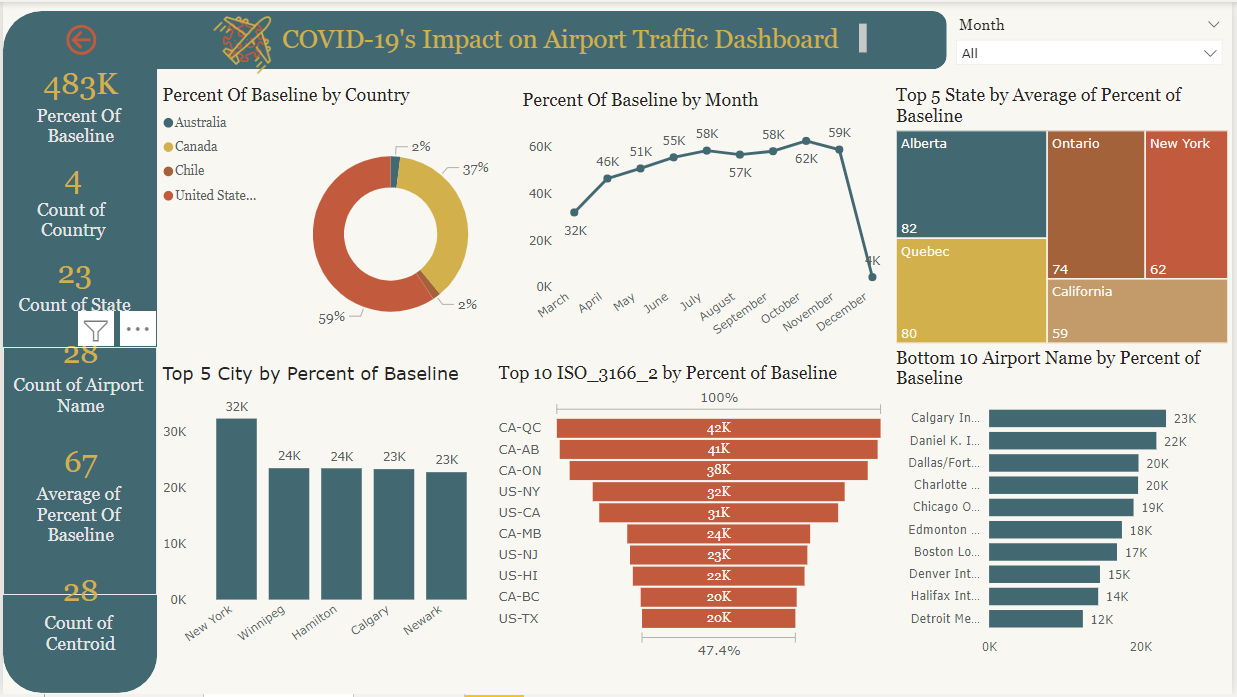

The page's visual inventory and layout, read from the dashboard file:
{"tool":"powerbi","page":{"name":"Dashboard","canvas":[1280,720],"ordinal":1},"visuals":[{"type":"donutChart","fields":{"Y":["covid_impact_on_airport_traffic.PercentOfBaseline"],"Series":["covid_impact_on_airport_traffic.Country"]},"box":[160.9,85.2,374.9,289.7],"z":0},{"type":"clusteredColumnChart","title":"Top 5 City by Percent of Baseline","fields":{"Y":["covid_impact_on_airport_traffic.PercentOfBaseline"],"Category":["covid_impact_on_airport_traffic.City"]},"box":[160.9,374.9,350.3,316.2],"z":1000},{"type":"lineChart","fields":{"Category":["covid_impact_on_airport_traffic.Date.Variation.Date Hierarchy.Month"],"Y":["covid_impact_on_airport_traffic.PercentOfBaseline"]},"box":[535.9,90.9,388.2,280.2],"z":2000},{"type":"funnel","title":"Top 10  ISO_3166_2 by Percent of Baseline","fields":{"Y":["covid_impact_on_airport_traffic.PercentOfBaseline"],"Category":["covid_impact_on_airport_traffic.ISO_3166_2"]},"box":[511.2,374.9,412.8,314.3],"z":3000},{"type":"barChart","title":"Bottom 10 Airport Name by Percent of Baseline","fields":{"Category":["covid_impact_on_airport_traffic.AirportName"],"Y":["covid_impact_on_airport_traffic.PercentOfBaseline"]},"box":[924,359.8,356,329.5],"z":4000},{"type":"treemap","title":"Top 5 State by Average of Percent of Baseline","fields":{"Group":["covid_impact_on_airport_traffic.State"],"Values":["covid_impact_on_airport_traffic.PercentOfBaseline"]},"box":[924,85.2,356,274.6],"z":5000},{"type":"shape","box":[89,9.5,893.7,60.6],"z":6000},{"type":"shape","box":[0,9.5,160.9,710.1],"z":7000},{"type":"textbox","box":[263.9,17.2,660.7,62.5],"z":8000},{"type":"slicer","fields":{"Values":["covid_impact_on_airport_traffic.Date.Variation.Date Hierarchy.Month"]},"box":[982.7,9.5,297.3,60.6],"z":9000},{"type":"card","fields":{"Values":["covid_impact_on_airport_traffic.Country"]},"box":[0,94.7,145.8,193.1],"z":10000},{"type":"card","fields":{"Values":["covid_impact_on_airport_traffic.State"]},"box":[1.9,191.2,145.8,200.7],"z":11000},{"type":"card","fields":{"Values":["covid_impact_on_airport_traffic.PercentOfBaseline"]},"box":[0,0,160.9,187.5],"z":12000},{"type":"card","fields":{"Values":["covid_impact_on_airport_traffic.AirportName"]},"box":[0,270.8,160.9,208.3],"z":13000},{"type":"card","fields":{"Values":["covid_impact_on_airport_traffic.Percent Of Baseline"]},"box":[0,359.8,160.9,257.5],"z":14000},{"type":"image","box":[187.4,12.5,178,56.2],"z":15000},{"type":"image","box":[335.8,207.7,124.9,62.5],"z":16000},{"type":"card","fields":{"Values":["covid_impact_on_airport_traffic.Centroid"]},"box":[0,524.5,160.9,195],"z":17000},{"type":"actionButton","box":[60.6,18.9,100.4,41.7],"z":18000},{"type":"shape","box":[160.9,676.3,1118.3,12.5],"z":18001}]}

Visuals, with their boxes in screenshot pixels (x1, y1, x2, y2), scaled from the page's 1280x720 canvas onto the 1237x697 screenshot:
donutChart - covid_impact_on_airport_traffic.PercentOfBaseline x covid_impact_on_airport_traffic.Country: [155,82,518,363]
"Top 5 City by Percent of Baseline" clusteredColumnChart: [155,363,494,669]
lineChart - covid_impact_on_airport_traffic.Date.Variation.Date Hierarchy.Month x covid_impact_on_airport_traffic.PercentOfBaseline: [518,88,893,359]
"Top 10  ISO_3166_2 by Percent of Baseline" funnel: [494,363,893,667]
"Bottom 10 Airport Name by Percent of Baseline" barChart: [893,348,1236,667]
"Top 5 State by Average of Percent of Baseline" treemap: [893,82,1236,348]
shape: [86,9,950,68]
shape: [0,9,155,696]
textbox: [255,17,894,77]
slicer - covid_impact_on_airport_traffic.Date.Variation.Date Hierarchy.Month: [950,9,1236,68]
card - covid_impact_on_airport_traffic.Country: [0,92,141,279]
card - covid_impact_on_airport_traffic.State: [2,185,143,379]
card - covid_impact_on_airport_traffic.PercentOfBaseline: [0,0,155,182]
card - covid_impact_on_airport_traffic.AirportName: [0,262,155,464]
card - covid_impact_on_airport_traffic.Percent Of Baseline: [0,348,155,598]
image: [181,12,353,67]
image: [325,201,445,262]
card - covid_impact_on_airport_traffic.Centroid: [0,508,155,696]
actionButton: [59,18,156,59]
shape: [155,655,1236,667]
